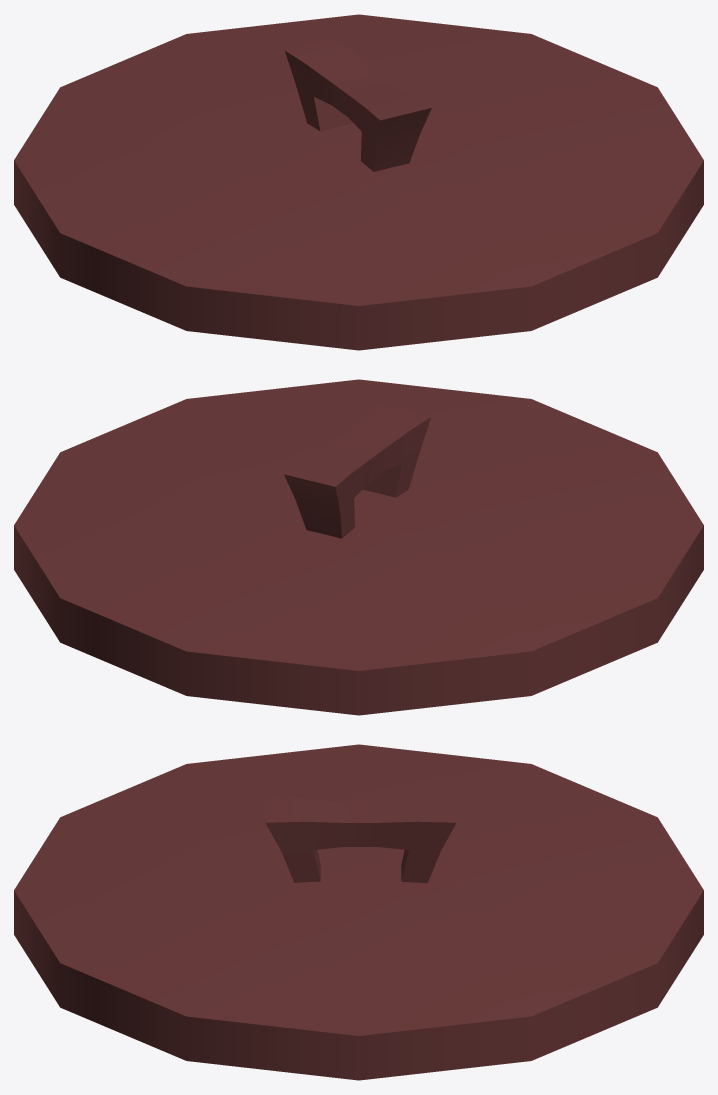
File: calleTapaTacho.fbx
3 renders of one model, top to bottom at view 1: azimuth 30°, elevation 25°; view 2: azimuth 150°, elevation 25°; view 3: azimuth 270°, elevation 25°, orthographic.
Parts seen in each view (by area): view 1: TapaTacho; view 2: TapaTacho; view 3: TapaTacho.
Boxes of the visible parts, x1,y1,x2,y2 form: TapaTacho: [14, 14, 703, 350]; TapaTacho: [14, 379, 703, 715]; TapaTacho: [14, 744, 703, 1080].
Size of the model in its own units: 0.00853 by 0.0017 by 0.00853.
